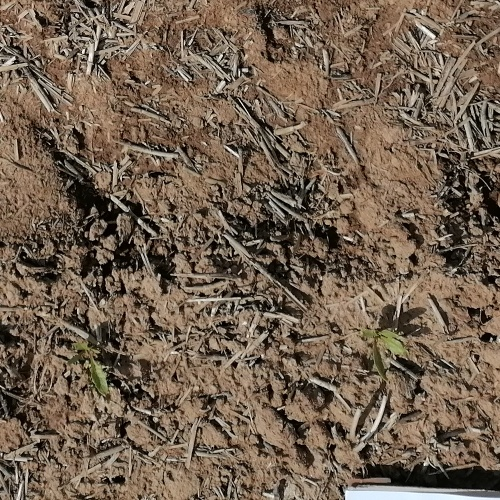beet: (360, 323, 407, 380), (79, 351, 110, 397)
